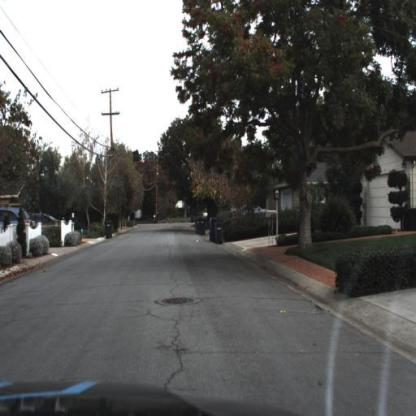car: (30, 211, 65, 240), (245, 201, 277, 226)
